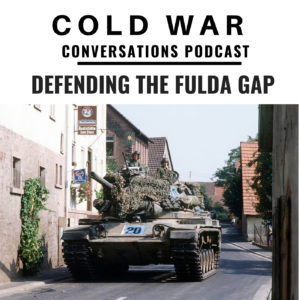Battle Tank: (61, 166, 224, 282)
